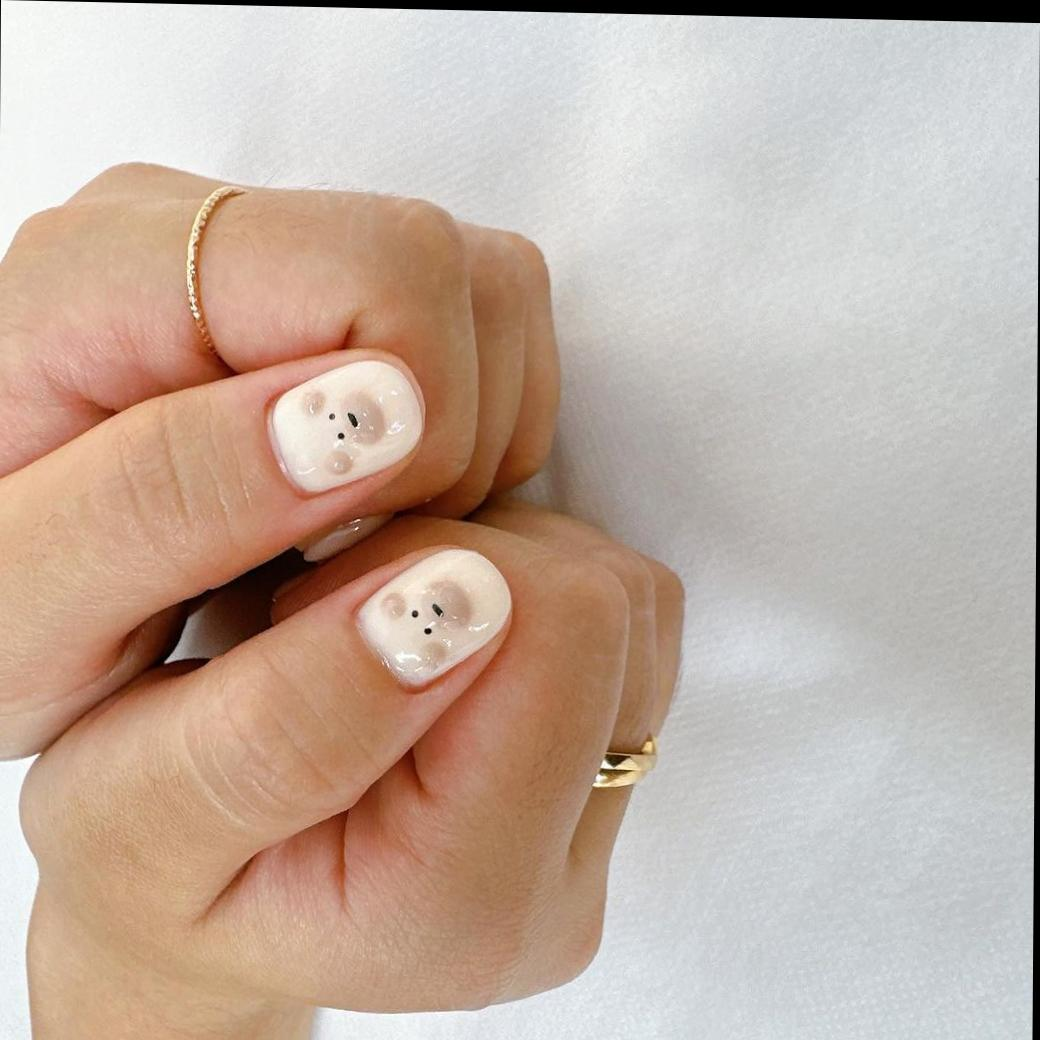nail: (351, 543, 512, 692), (263, 353, 424, 497)
